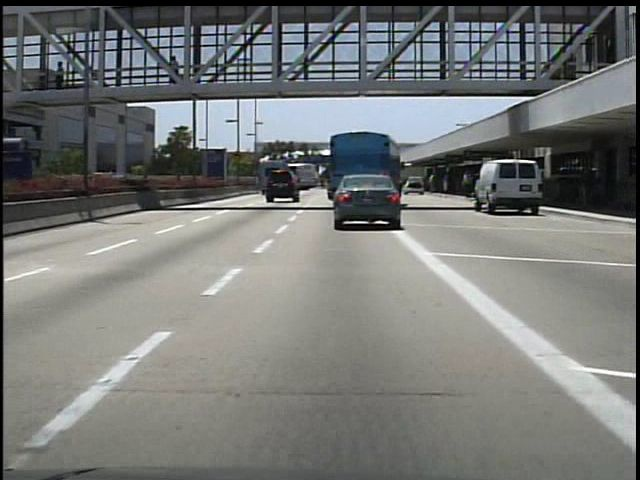person: (578, 166, 600, 210), (168, 53, 187, 95), (55, 58, 73, 91), (462, 167, 476, 199)
